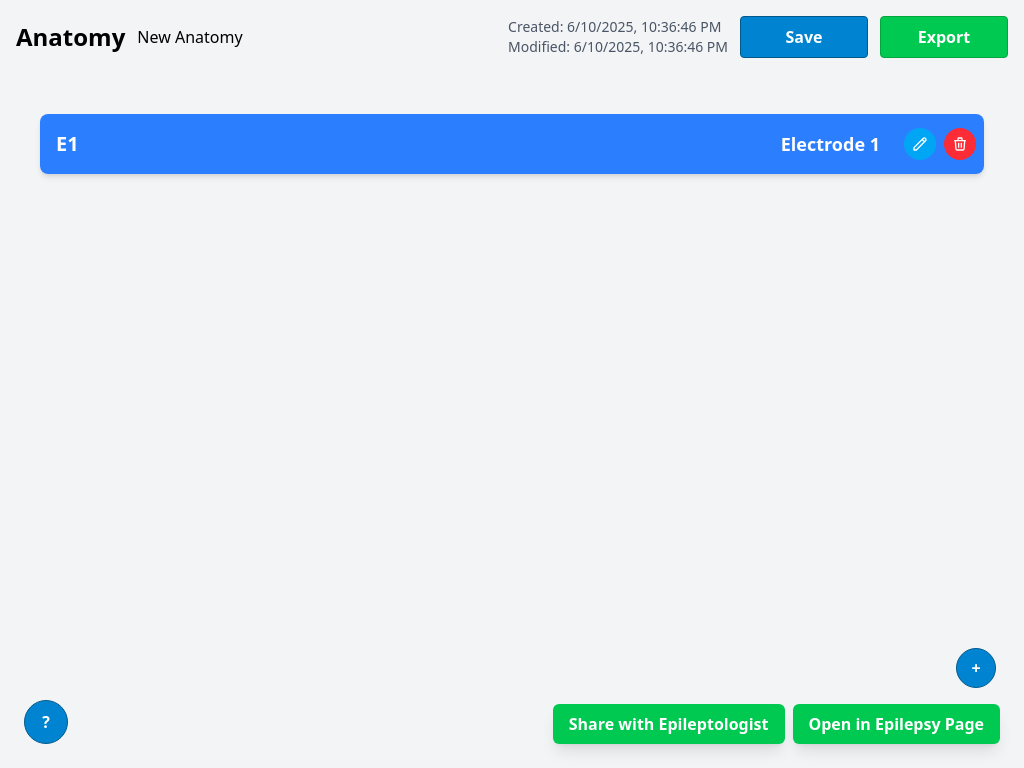
it: Localization Component › saves localization data
What coordinates should you click on to do the following:
click the button "Save"
I would click on:
 (804, 37)
Its box is [740, 16, 868, 58].
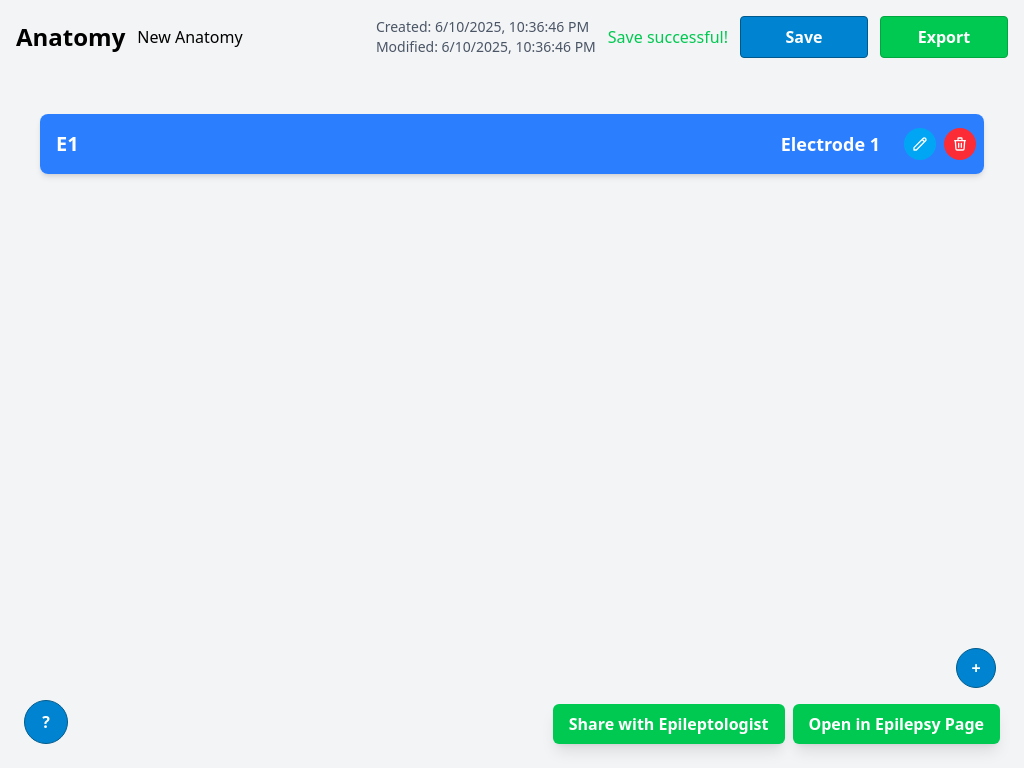
Expected: the text "Save successful!" is shown, [608, 25, 728, 49]
